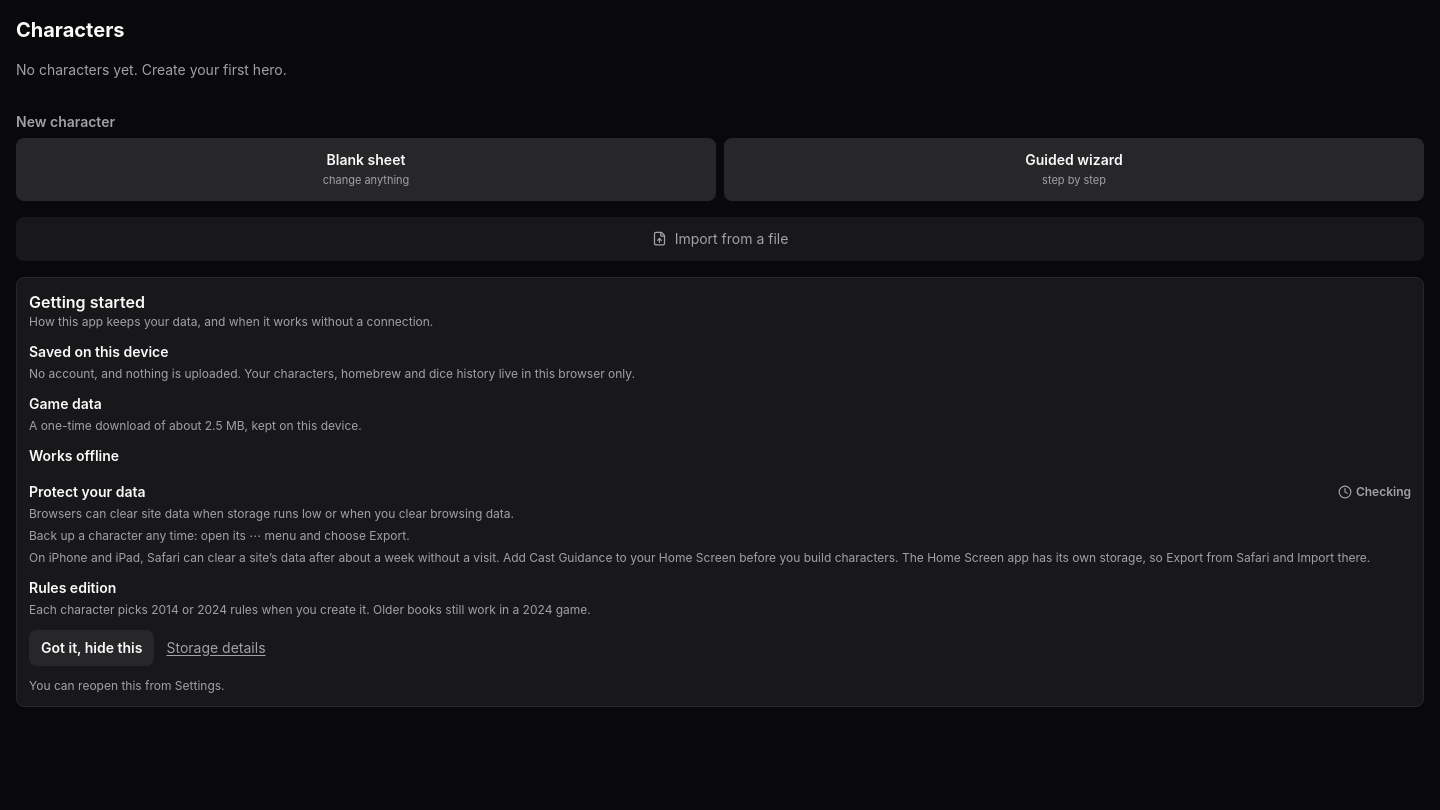
Test: CharacterListPage getting-started card › hands focus to the page heading when hidden
Click the button "Got it, hide this" at x=92, y=648, box [29, 630, 154, 666]
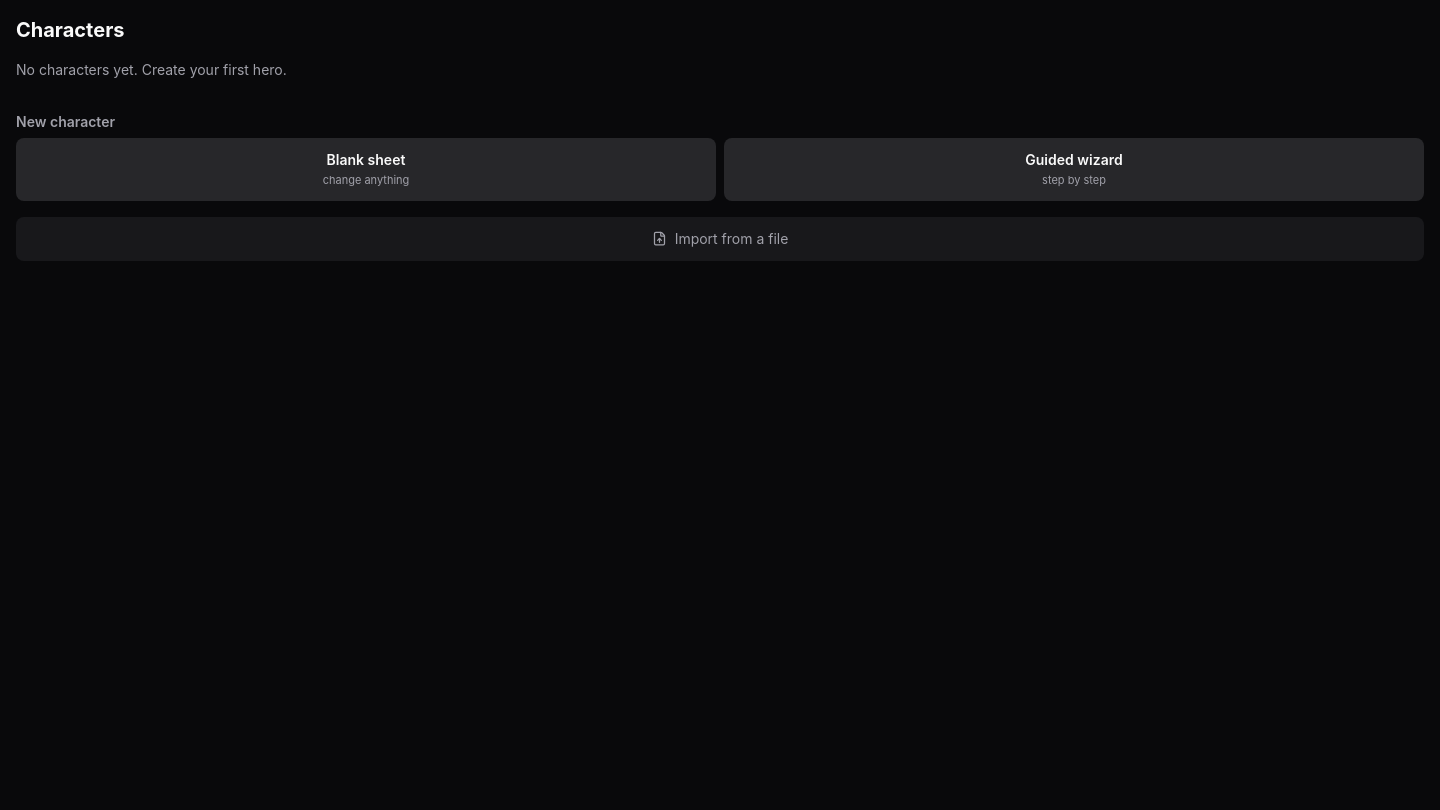
Check: the heading "Getting started" is gone
